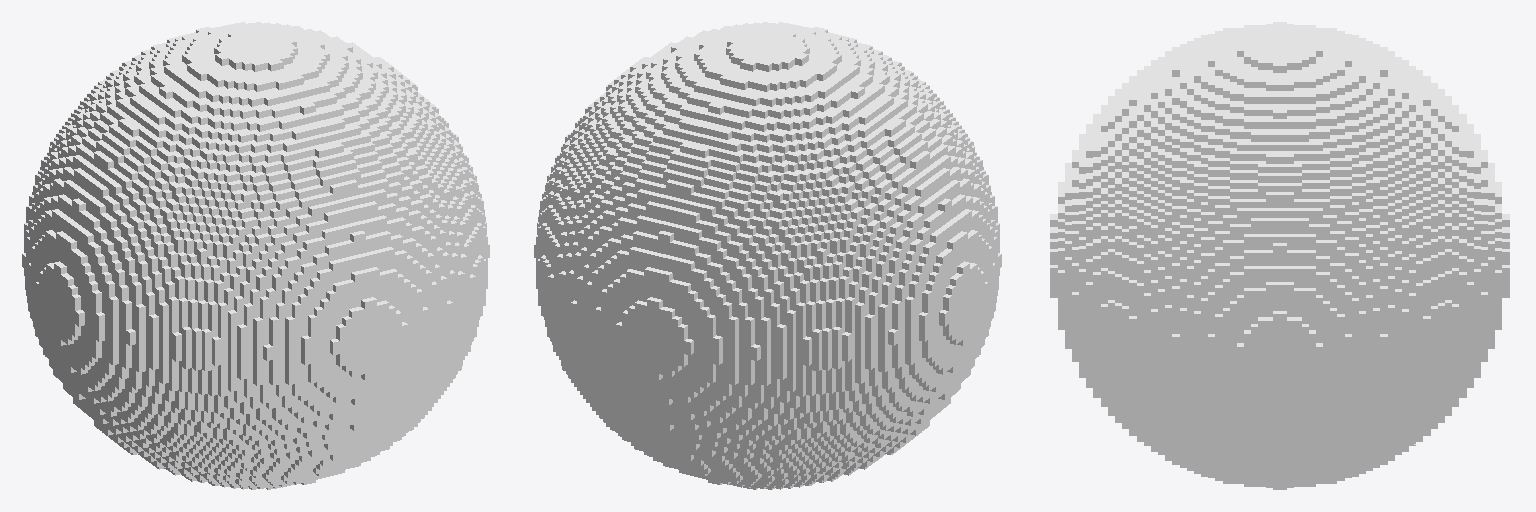
Rendered from Pokeball.obj.
The picture shows the model from 3 angles: view 1: azimuth 30°, elevation 25°; view 2: azimuth 150°, elevation 25°; view 3: azimuth 270°, elevation 25°; orthographic projection.
Visible parts, largest first — view 1: Pokeball; view 2: Pokeball; view 3: Pokeball.
Boxes of the visible parts, <box> form: Pokeball: <box>22,22,489,489</box>; Pokeball: <box>534,22,1001,489</box>; Pokeball: <box>1050,22,1509,489</box>.
Bounding box in the file's own units: 6.4 × 6.4 × 6.4.